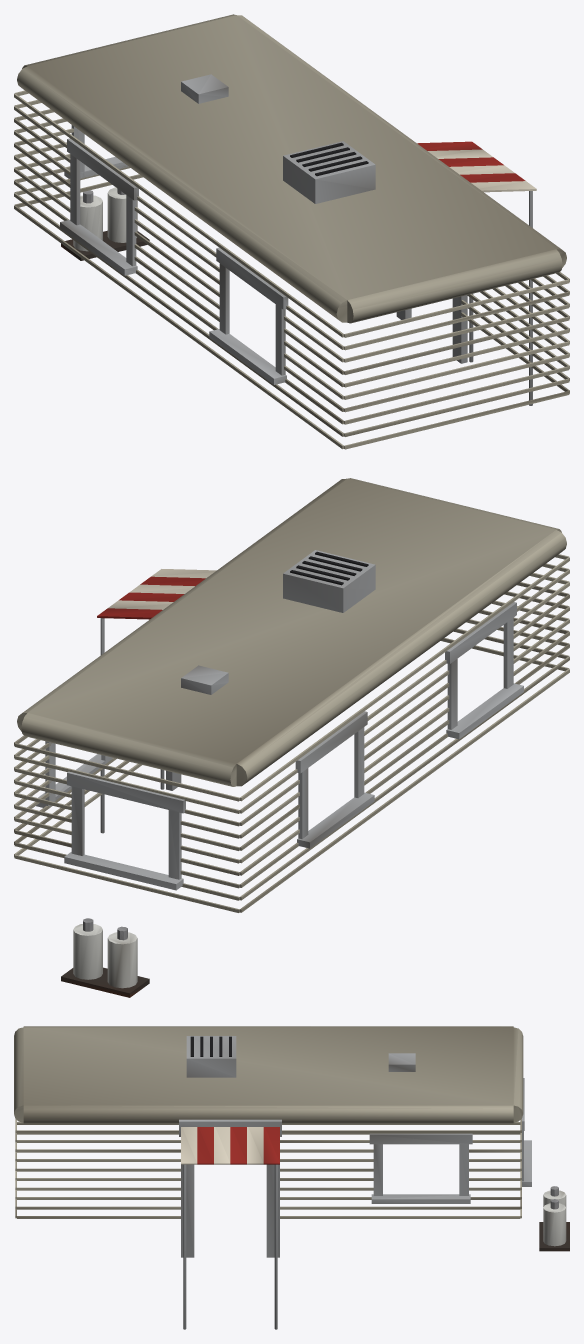
The model's file is TrailerExterior.glb.
3 renders of one model, top to bottom at view 1: azimuth 30°, elevation 25°; view 2: azimuth 150°, elevation 25°; view 3: azimuth 270°, elevation 25°, orthographic. The views are drawn at different scales.
Visible parts, largest first — view 1: TrailerExterior_trailer_paint, TrailerExterior_aluminium, TrailerExterior_paint_white, TrailerExterior_awning_white, TrailerExterior_awning_red, TrailerExterior_metal_dark, TrailerExterior_iron; view 2: TrailerExterior_trailer_paint, TrailerExterior_aluminium, TrailerExterior_paint_white, TrailerExterior_awning_red, TrailerExterior_awning_white, TrailerExterior_metal_dark, TrailerExterior_iron; view 3: TrailerExterior_trailer_paint, TrailerExterior_aluminium, TrailerExterior_awning_red, TrailerExterior_awning_white, TrailerExterior_paint_white, TrailerExterior_iron.
Part boxes in pixels (bbox=[...]): TrailerExterior_trailer_paint: bbox=[14, 14, 569, 449]; TrailerExterior_aluminium: bbox=[60, 74, 532, 405]; TrailerExterior_paint_white: bbox=[73, 187, 137, 251]; TrailerExterior_awning_white: bbox=[428, 149, 536, 192]; TrailerExterior_awning_red: bbox=[417, 141, 525, 182]; TrailerExterior_metal_dark: bbox=[290, 142, 368, 176]; TrailerExterior_iron: bbox=[61, 230, 149, 260]; TrailerExterior_trailer_paint: bbox=[14, 478, 569, 912]; TrailerExterior_aluminium: bbox=[36, 550, 523, 890]; TrailerExterior_paint_white: bbox=[73, 924, 137, 988]; TrailerExterior_awning_red: bbox=[97, 576, 205, 619]; TrailerExterior_awning_white: bbox=[108, 569, 216, 609]; TrailerExterior_metal_dark: bbox=[290, 551, 368, 585]; TrailerExterior_iron: bbox=[61, 967, 149, 997]; TrailerExterior_trailer_paint: bbox=[14, 1026, 523, 1218]; TrailerExterior_aluminium: bbox=[179, 1036, 531, 1329]; TrailerExterior_awning_red: bbox=[197, 1127, 279, 1164]; TrailerExterior_awning_white: bbox=[181, 1127, 263, 1164]; TrailerExterior_paint_white: bbox=[543, 1190, 566, 1246]; TrailerExterior_iron: bbox=[539, 1222, 569, 1251].
Size of the model in its own units: 14.51 by 12.36 by 29.15.
